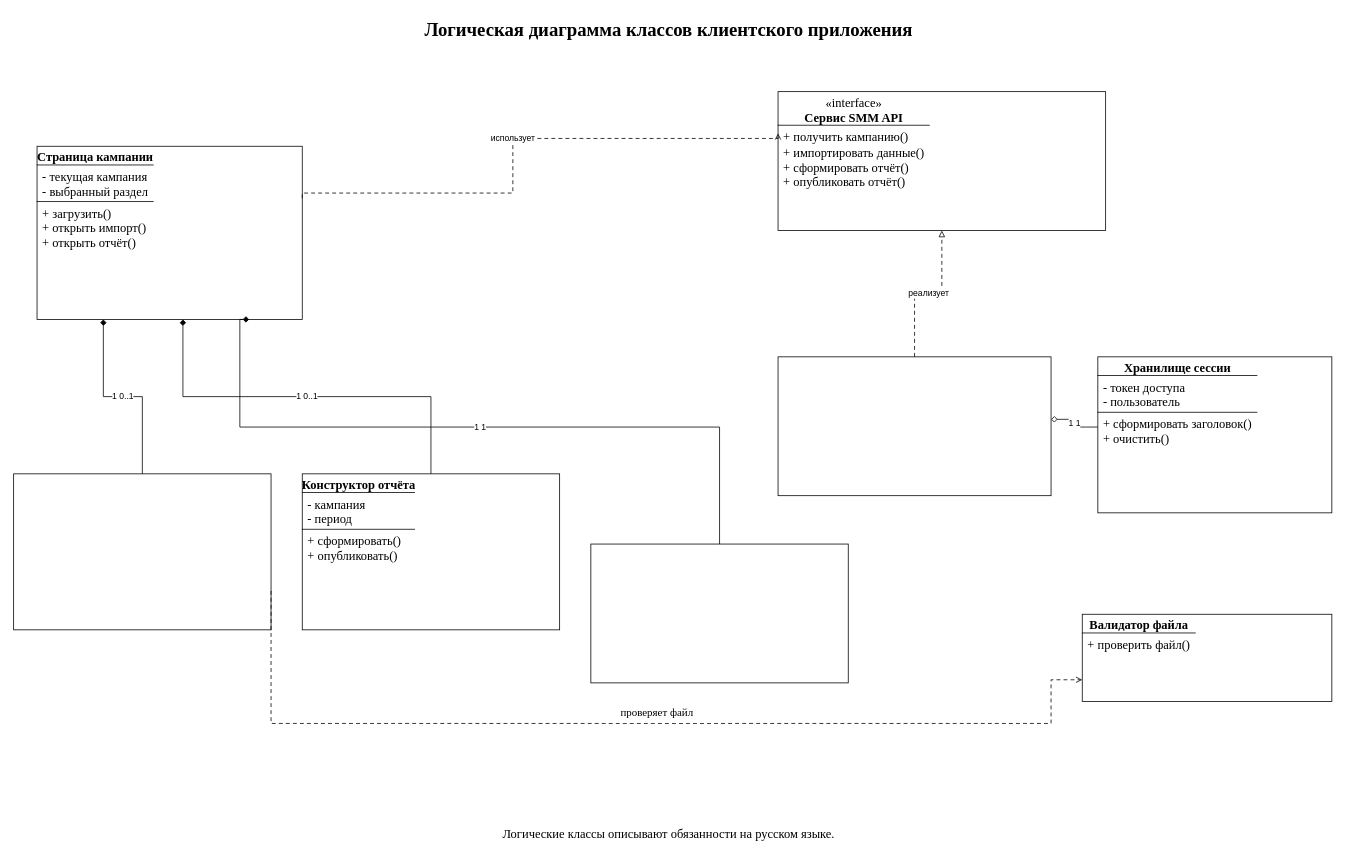
Image size: 1346x860. Some labels were removed from this diagram. Each missing label, with the centre of its shape:
"Клиент API - базовый адрес - сессия + выполнить запрос()" belongs at point (914, 426).
"Модель аналитики - показатели - оценки тональности + построить серии()" belongs at point (719, 613).
"Форма импорта - выбранный файл - кампания + выбрать файл() + отправить()" belongs at point (142, 551).
